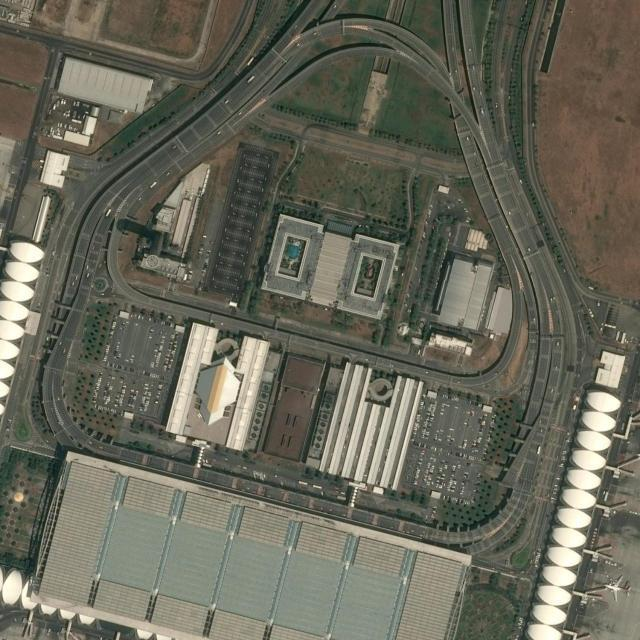Aircraft: (605, 575, 631, 599)
